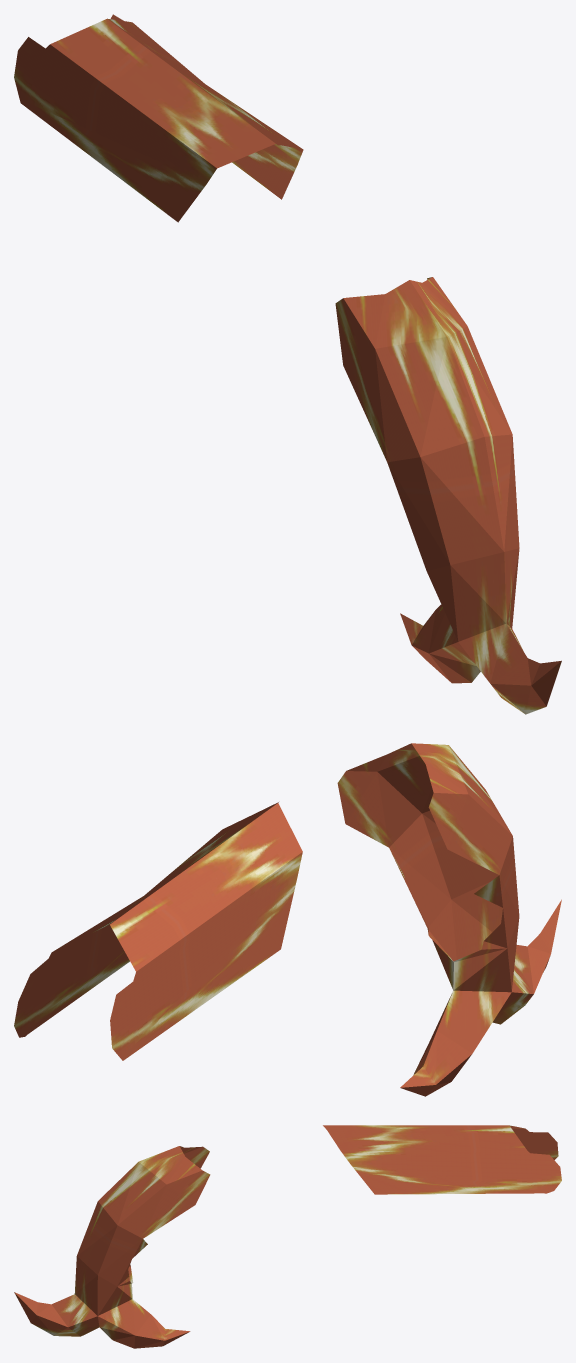
3 views of the same model, one above another, from view 1: azimuth 30°, elevation 25°; view 2: azimuth 150°, elevation 25°; view 3: azimuth 270°, elevation 25° (orthographic). The views are drawn at different scales.
Visible parts, largest first — view 1: Object02; view 2: Object02; view 3: Object02.
Part boxes in pixels (<box>): Object02: <box>14,14,561,714</box>; Object02: <box>14,743,561,1096</box>; Object02: <box>14,1125,561,1348</box>.
Size of the model in its own units: 4.85 by 37.88 by 17.05.
